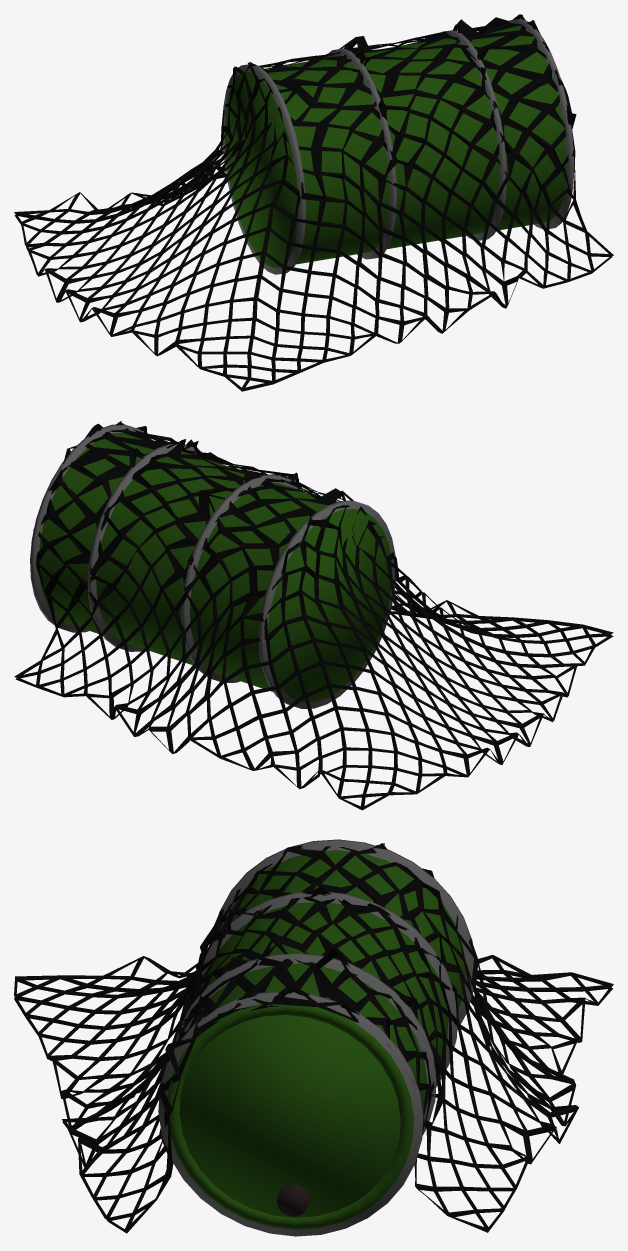
File: trash.gltf
The picture shows the model from 3 angles, top to bottom: view 1: azimuth 30°, elevation 25°; view 2: azimuth 150°, elevation 25°; view 3: azimuth 270°, elevation 25°; orthographic projection. The views are drawn at different scales.
Parts seen in each view (by area): view 1: Plane; view 2: Plane; view 3: Plane.
Part boxes in pixels (x1,y1,x2,y2): Plane: [14, 14, 613, 391]; Plane: [14, 421, 613, 810]; Plane: [14, 839, 613, 1236].
Size of the model in its own units: 5.33 by 2.3 by 4.81.
